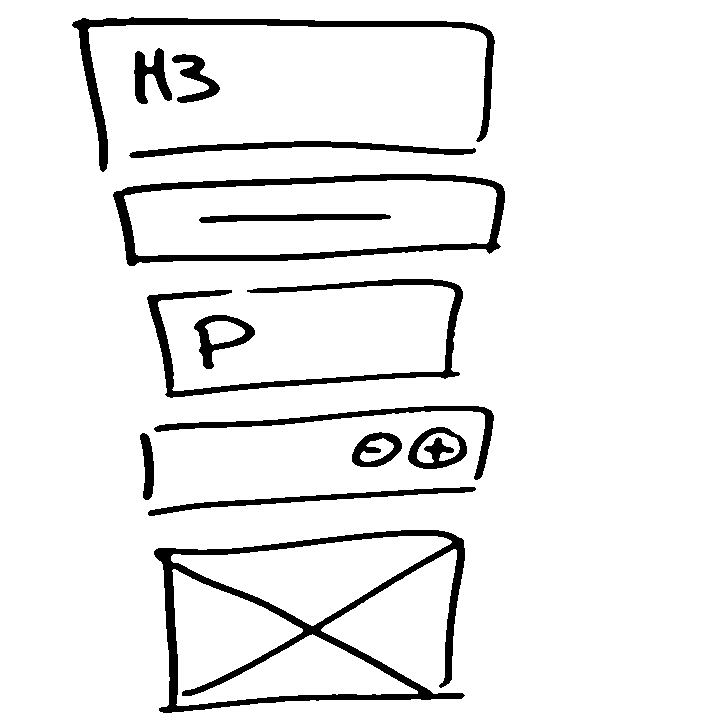button: (108, 169, 519, 271)
heading3: (65, 13, 515, 167)
inline stepper bar: (131, 399, 498, 514)
paragraph: (141, 276, 477, 397)
picture: (140, 525, 476, 713)
